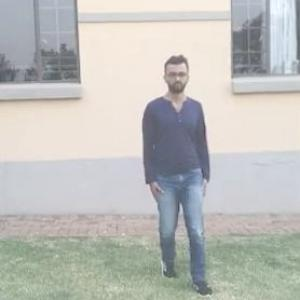follow: (142, 56, 208, 282)
